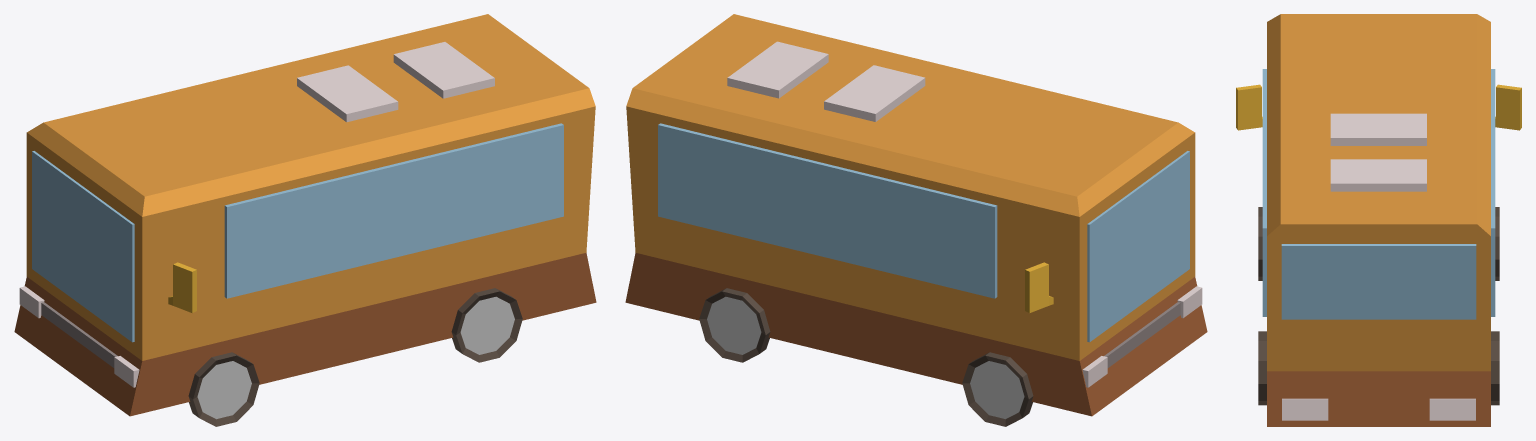
Rendered from bus.fbx.
3 views of the same model, side by side, from view 1: azimuth 30°, elevation 25°; view 2: azimuth 150°, elevation 25°; view 3: azimuth 270°, elevation 25° (orthographic). The views are drawn at different scales.
Parts seen in each view (by area): view 1: Bus; view 2: Bus; view 3: Bus.
Part boxes in pixels (x1,y1,x2,y2): Bus: (14,14,596,426); Bus: (625,14,1207,426); Bus: (1236,14,1521,426).
Size of the model in its own units: 35.14 by 19.15 by 17.52.
